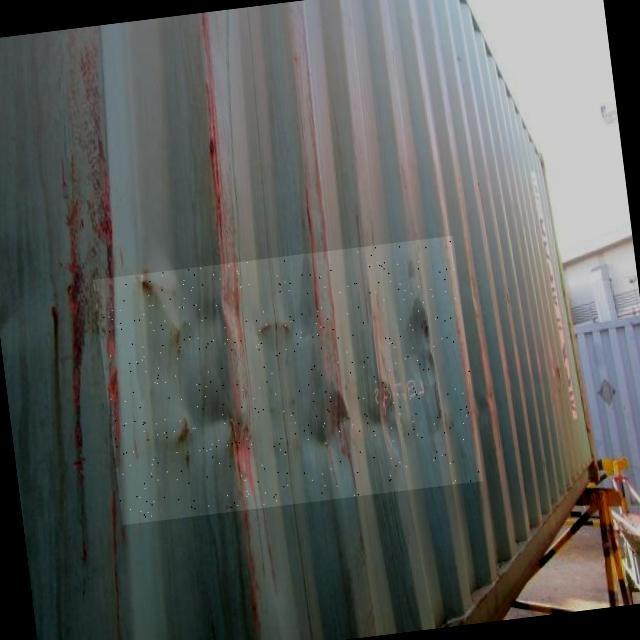dent: (94, 237, 484, 526)
